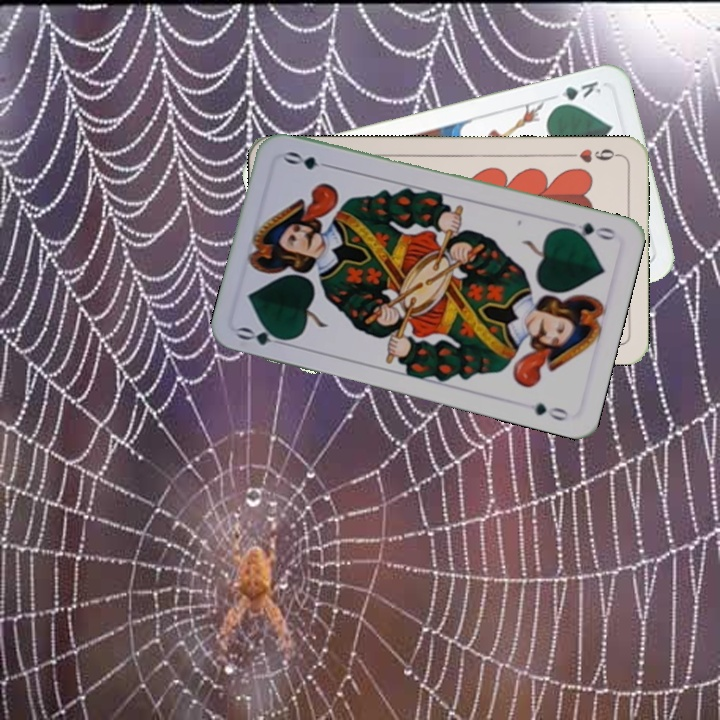GK: (546, 77, 604, 110)
GO: (233, 322, 293, 349), (560, 218, 618, 243)
H9: (563, 144, 622, 165)
